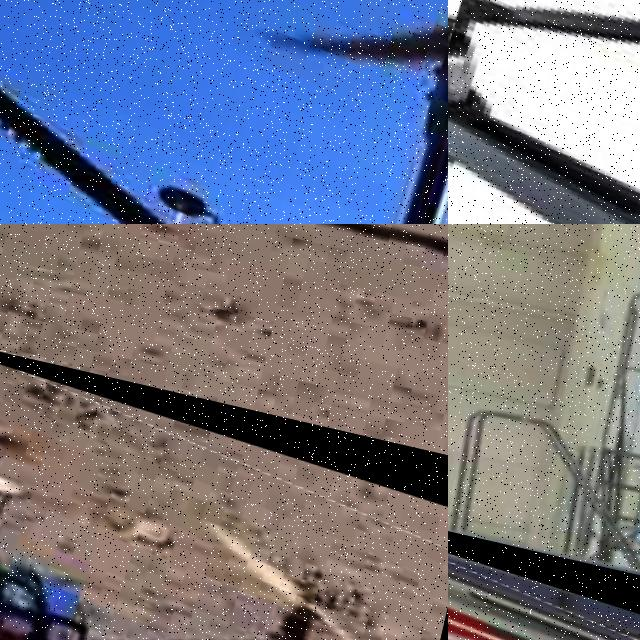0: (0, 318, 448, 640), (0, 0, 448, 224)
drone: (448, 0, 640, 224), (448, 472, 640, 640)
